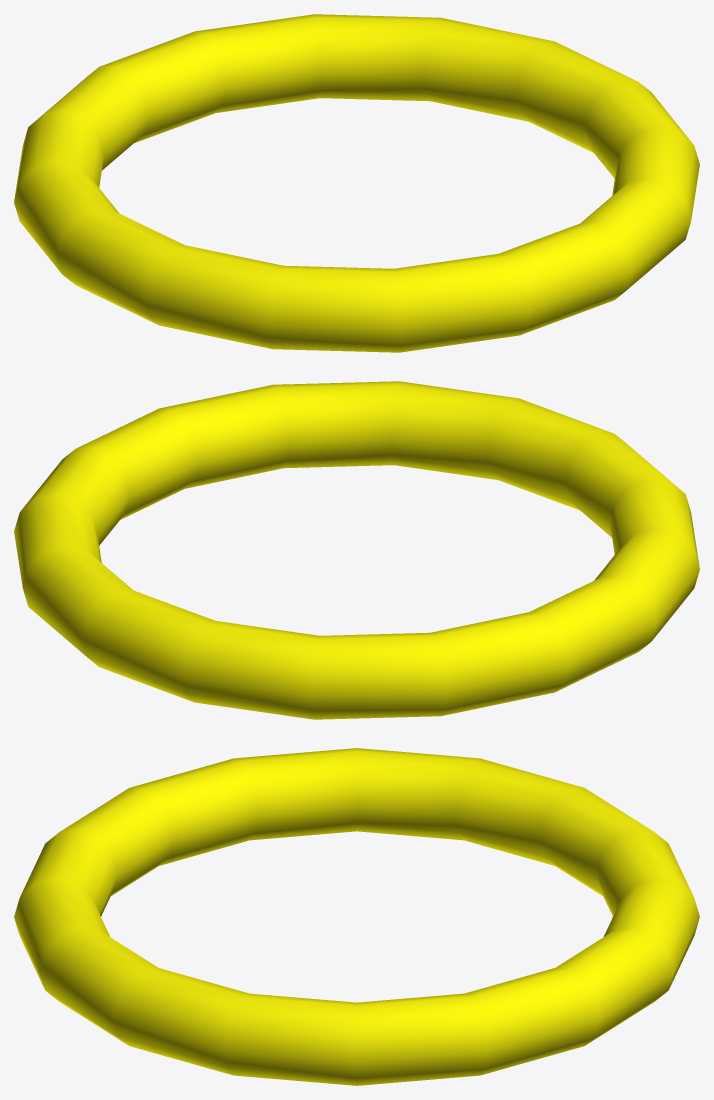
Rendered from HAT_Halo.fbx.
3 renders of one model, top to bottom at view 1: azimuth 30°, elevation 25°; view 2: azimuth 150°, elevation 25°; view 3: azimuth 270°, elevation 25°, orthographic.
Visible parts, largest first — view 1: Halo; view 2: Halo; view 3: Halo.
Part boxes in pixels (bbox=[...]): Halo: bbox=[14, 14, 699, 352]; Halo: bbox=[14, 381, 699, 719]; Halo: bbox=[14, 748, 699, 1085].
Bounding box in the file's own units: 82 × 10 × 82.
